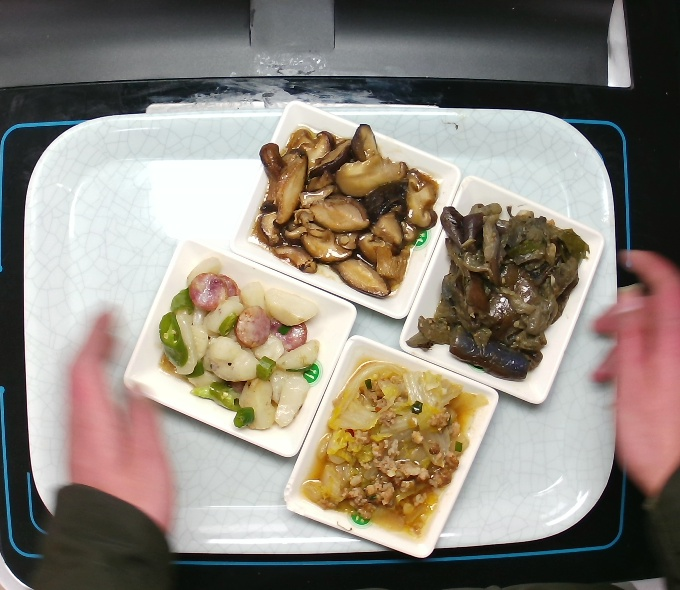wcq-MaTiGuo: (154, 256, 321, 432)
wcq-MoGu: (255, 125, 441, 301)
wcq-QieZi: (404, 201, 591, 382)
wcq-RouMoBaiCai: (298, 359, 478, 534)
